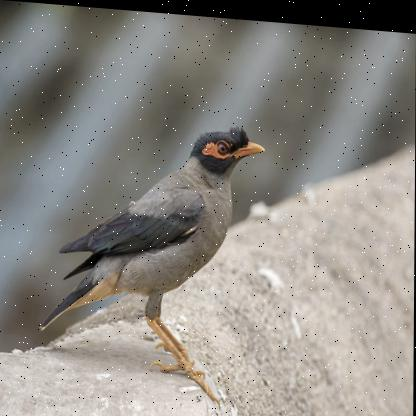Burung: (41, 112, 264, 403)
